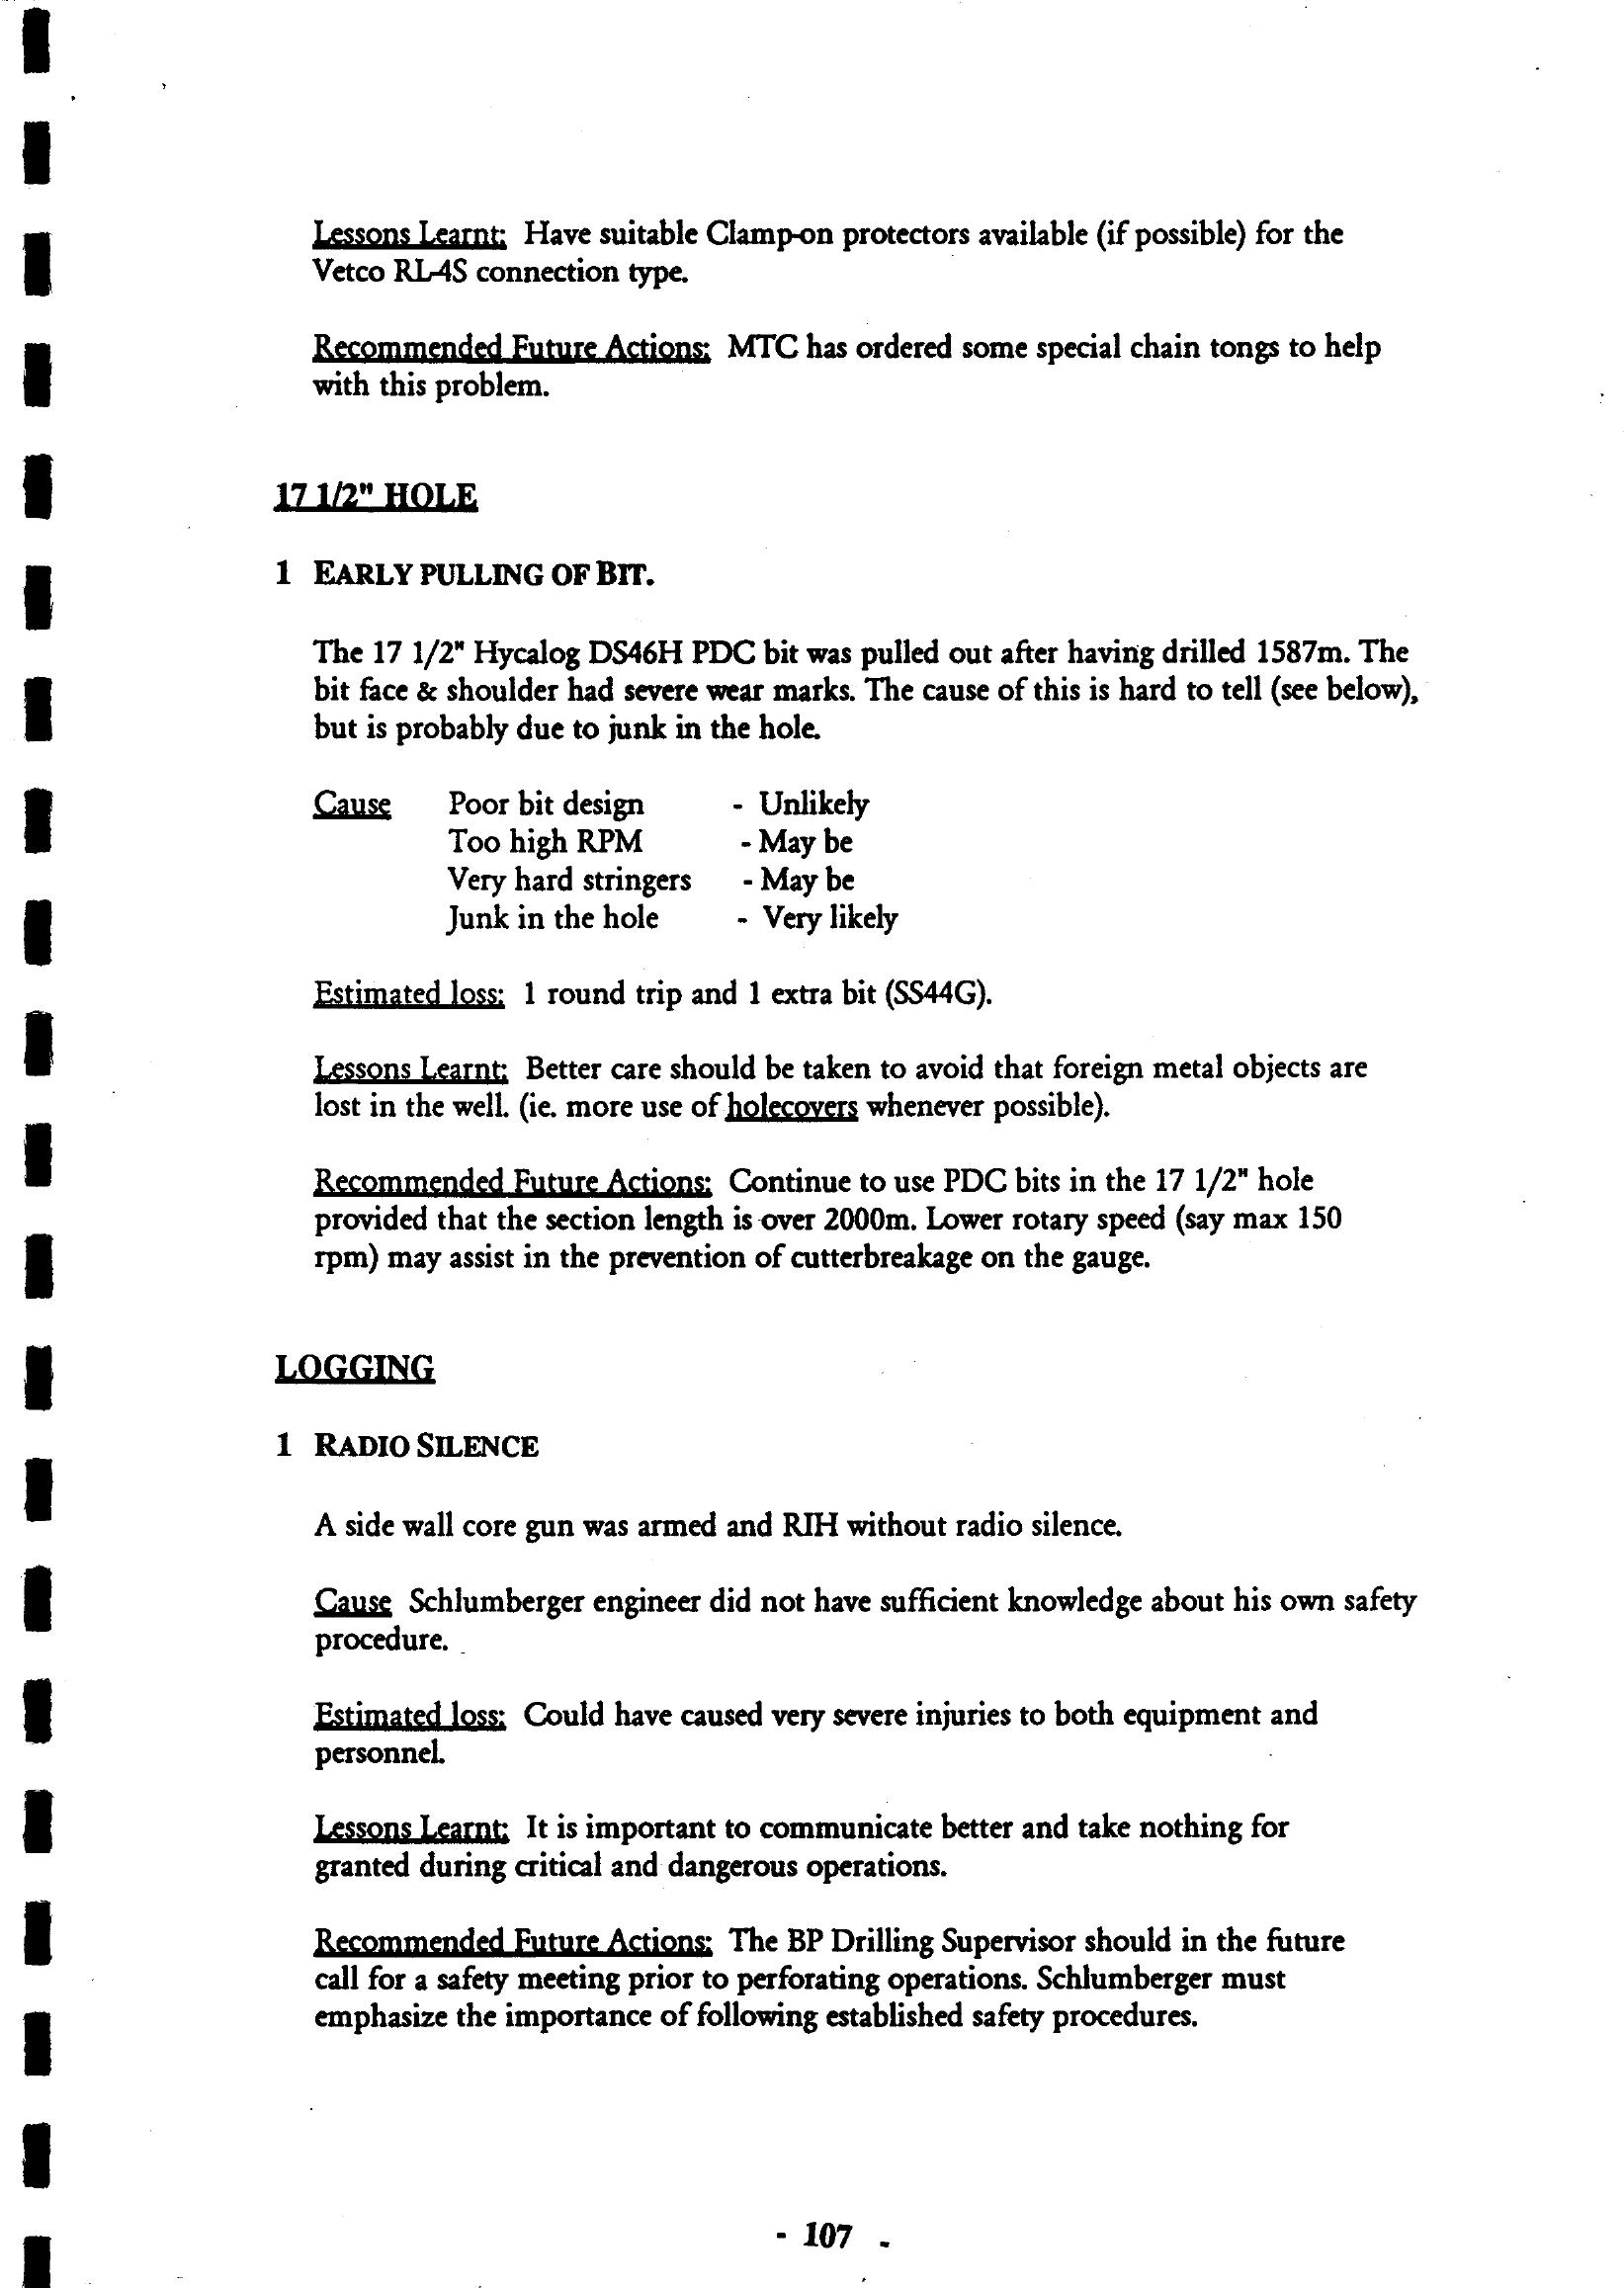text: (234, 185, 1492, 2068)
